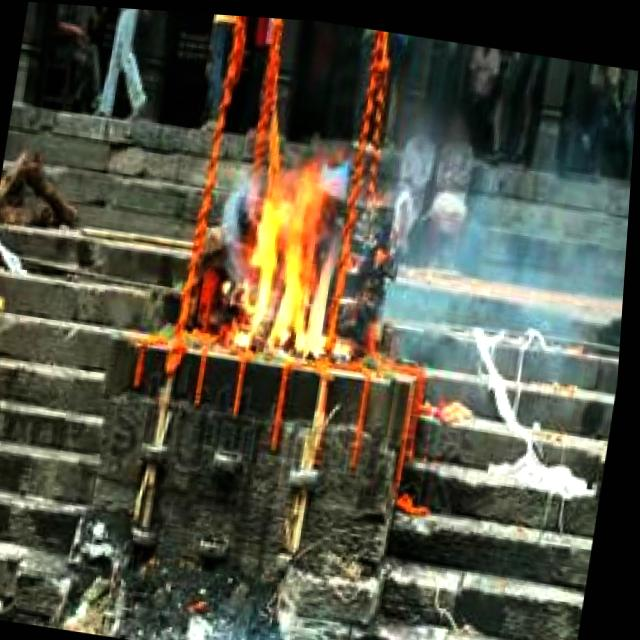helmet: (236, 141, 370, 363)
